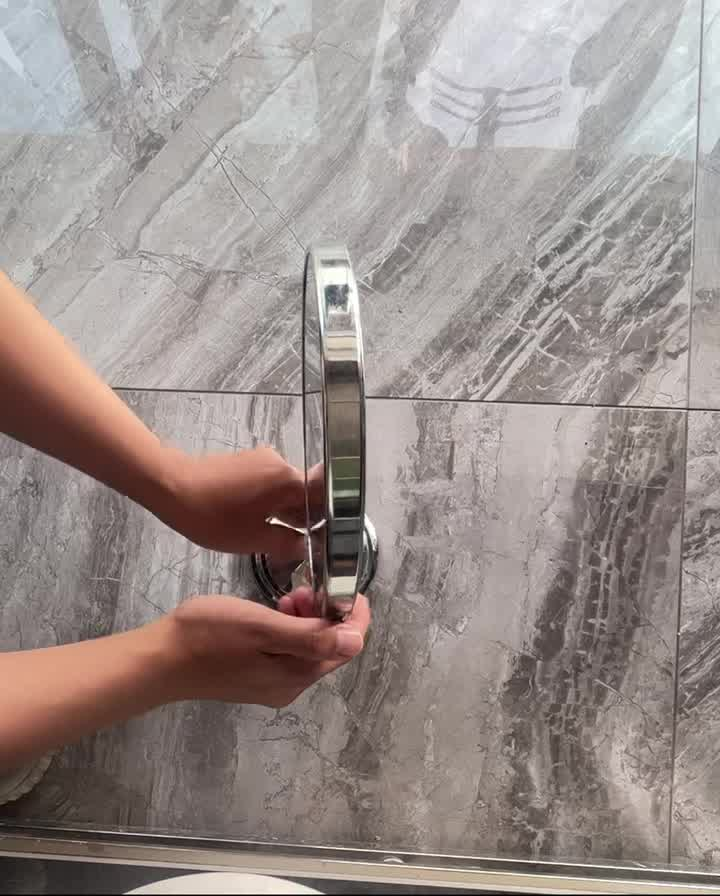base: (250, 489, 376, 614)
mirror: (298, 253, 381, 600)
